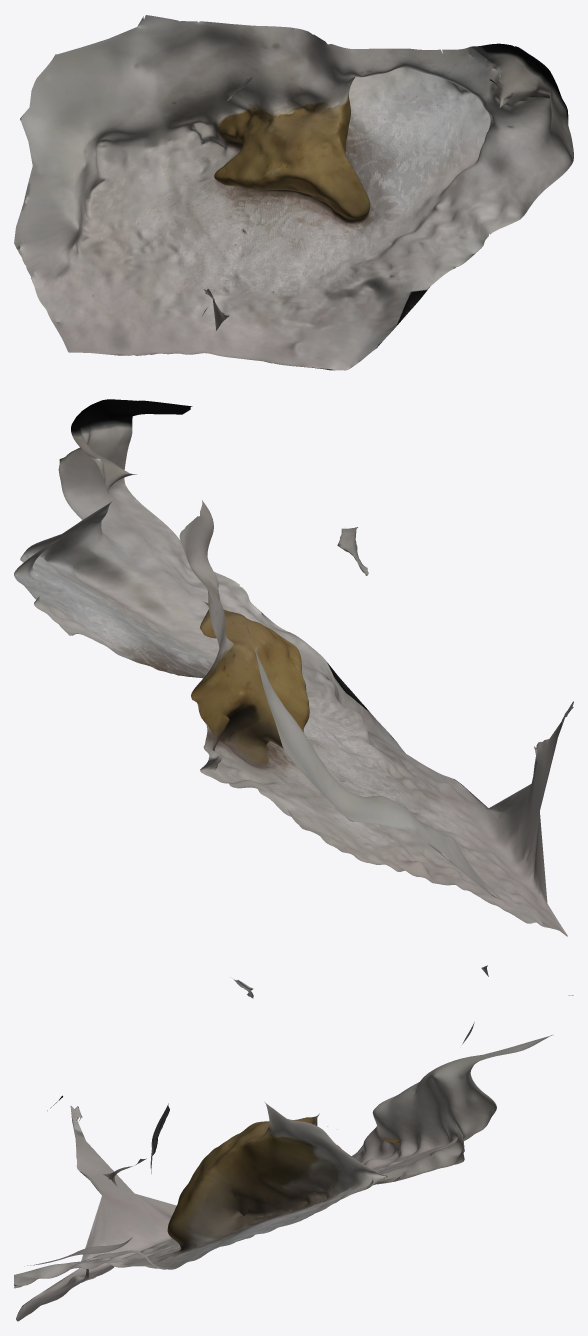
The picture shows the model from 3 angles, top to bottom: view 1: azimuth 30°, elevation 25°; view 2: azimuth 150°, elevation 25°; view 3: azimuth 270°, elevation 25°; orthographic projection. The views are drawn at different scales.
Bounding box in the file's own units: 1.39 × 0.7609 × 1.15.
1 material, 1 textured.
